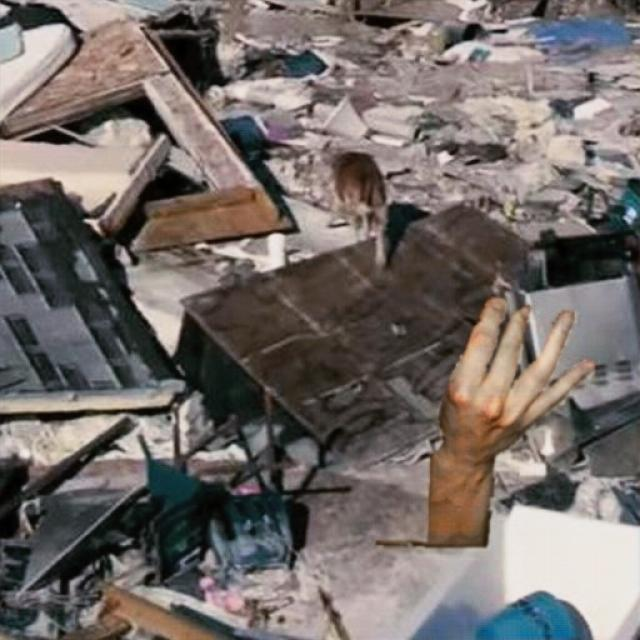Person in Rubble: (376, 298, 594, 546)
